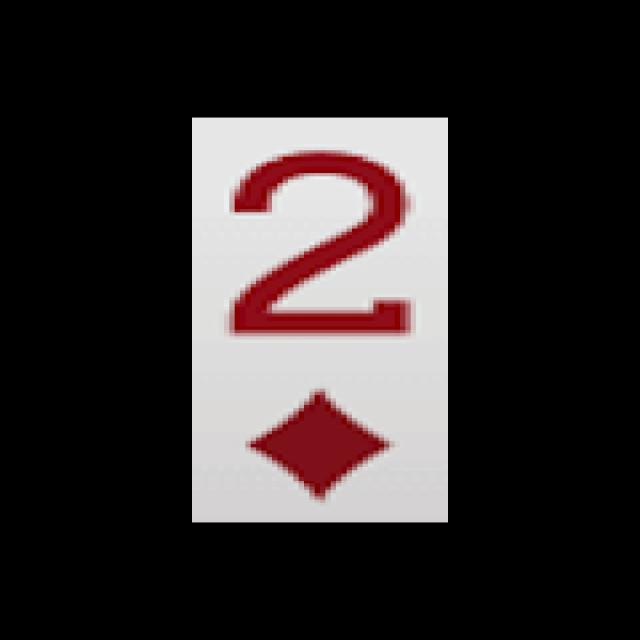2D: (207, 140, 434, 512)
